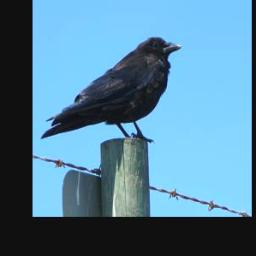Crow: (39, 35, 184, 144)
